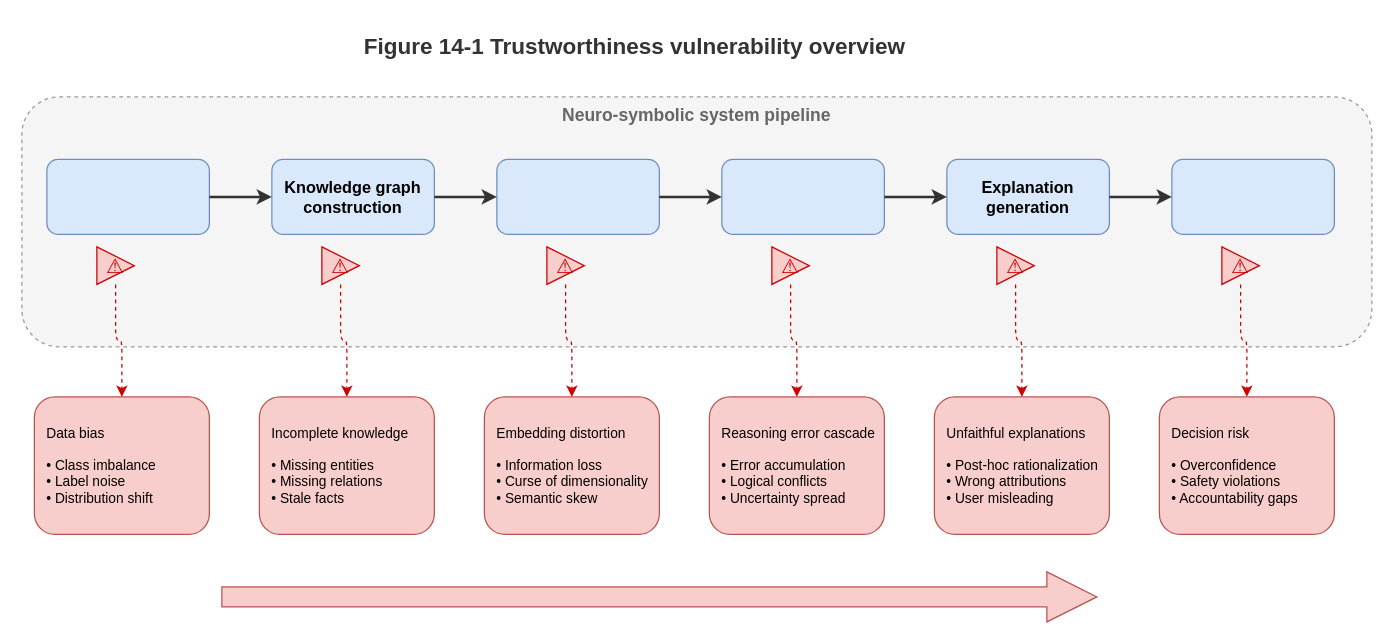
Image size: 1394x644. Some labels were removed from this diagram. The centre of each missing label's shape, as x and y in pixels:
"Data acquisition & preprocessing" goes at point (127, 196).
"Decision output" goes at point (1252, 196).
"Errors propagate and amplify across stages" goes at point (659, 596).
"Graph embedding encoding" goes at point (577, 196).
"Reasoning engine" goes at point (802, 196).
